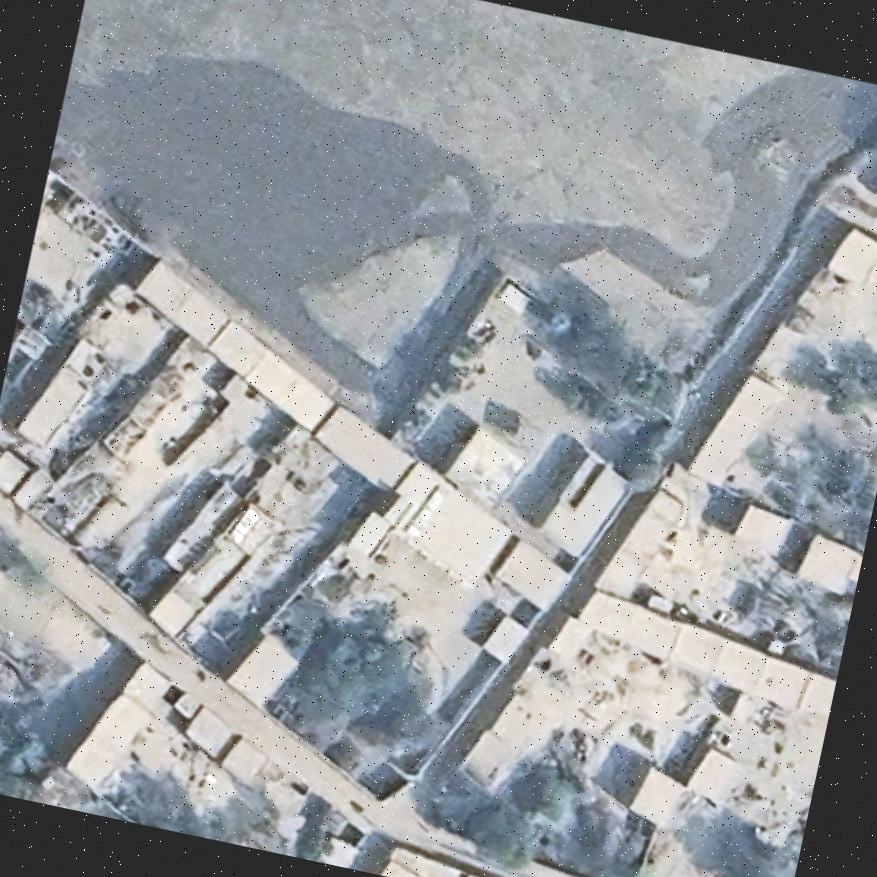Solarpanel: (398, 480, 452, 546), (224, 502, 263, 549)
